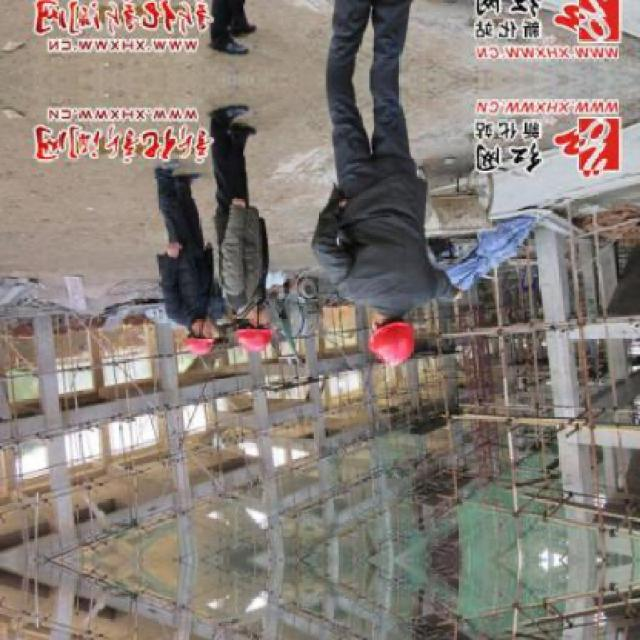con casco: (346, 290, 440, 376), (230, 294, 311, 390), (164, 310, 245, 372)
